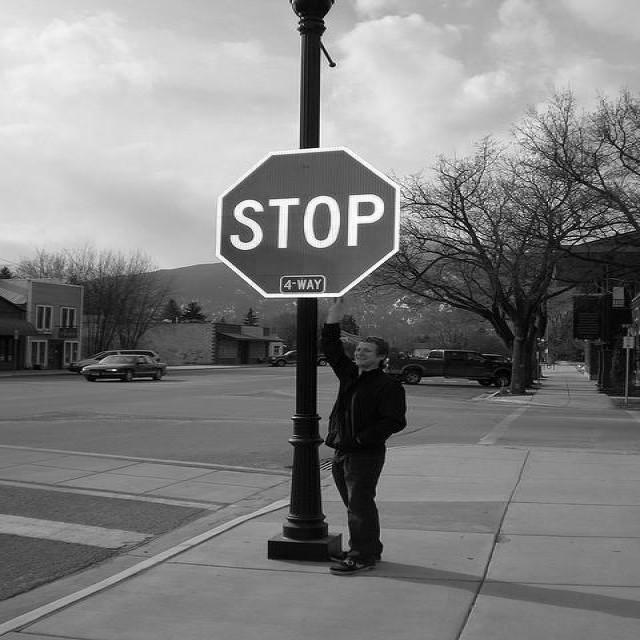vehicle: (383, 349, 511, 386), (80, 355, 168, 382), (67, 349, 161, 373), (267, 350, 328, 368)
